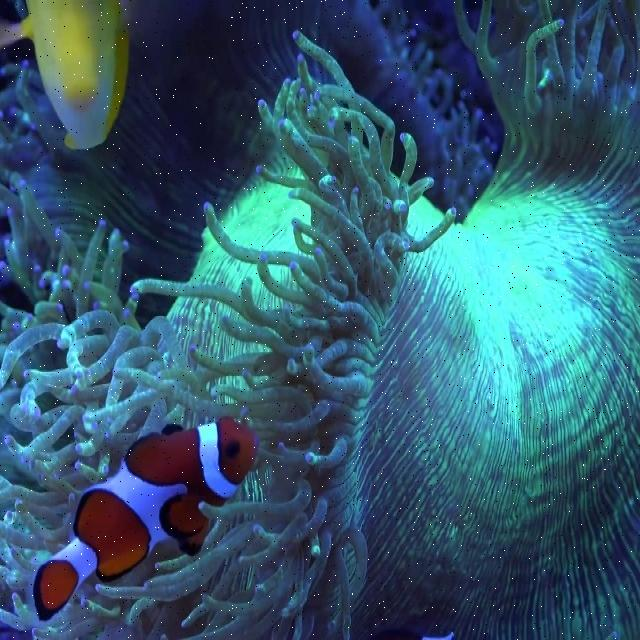fish: (33, 416, 257, 622), (1, 0, 128, 150)
reefs: (2, 0, 640, 639)
